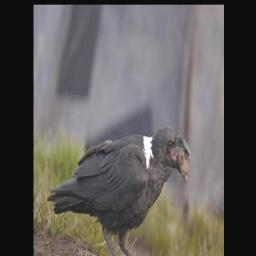Crow: (45, 121, 191, 256)
